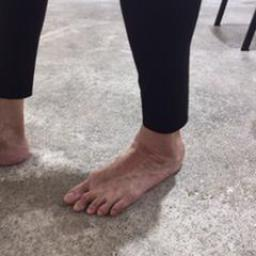Lateral View -Left Foot-: (57, 117, 192, 222)
